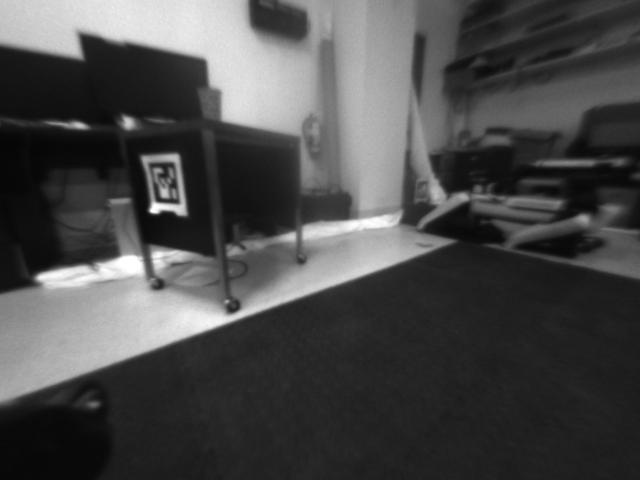coffee_cup: (194, 85, 225, 118)
